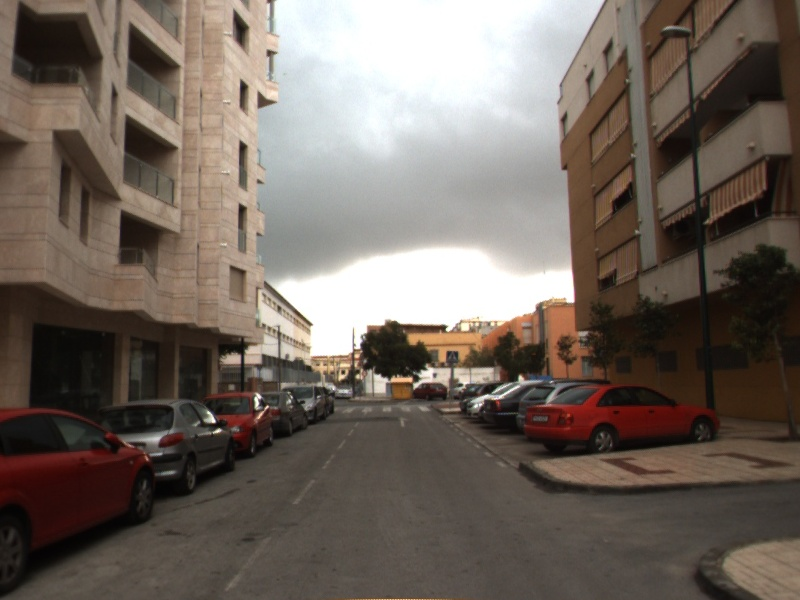STRAIGHT: (395, 414, 413, 429)
